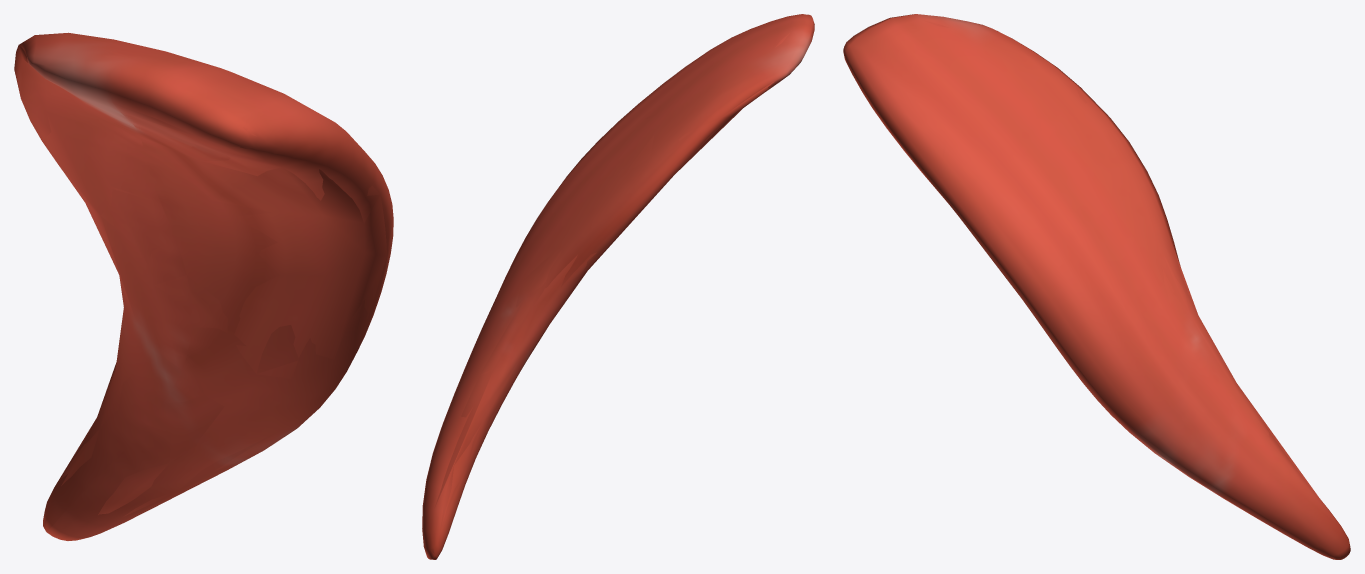
File: L Gluteus Medius.fbx
3 views of the same model, side by side, from view 1: azimuth 30°, elevation 25°; view 2: azimuth 150°, elevation 25°; view 3: azimuth 270°, elevation 25° (orthographic). The views are drawn at different scales.
Parts seen in each view (by area): view 1: L Gluteus Medius, L Gluteus Medius low; view 2: L Gluteus Medius, L Gluteus Medius low; view 3: L Gluteus Medius, L Gluteus Medius low.
Boxes of the visible parts, <box> form: L Gluteus Medius: <box>14,32,393,540</box>; L Gluteus Medius low: <box>18,45,386,516</box>; L Gluteus Medius: <box>422,14,814,559</box>; L Gluteus Medius low: <box>430,20,811,558</box>; L Gluteus Medius: <box>843,14,1350,559</box>; L Gluteus Medius low: <box>844,17,1350,548</box>.
Size of the model in its own units: 6.79 by 12.25 by 12.38.
